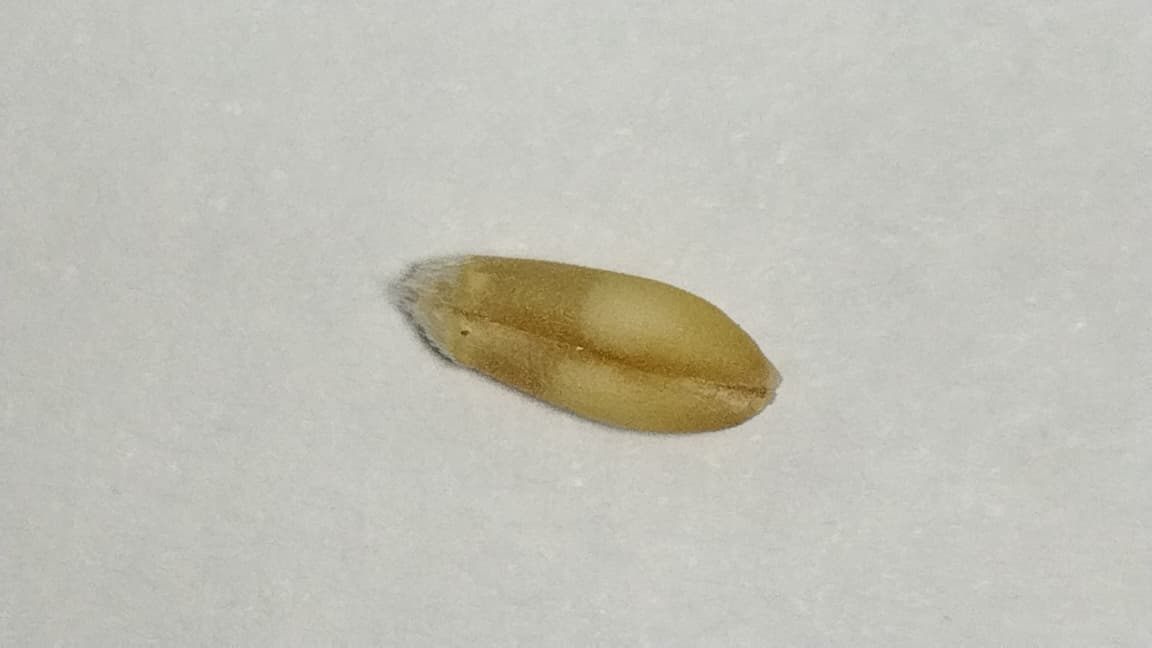healthy: (406, 256, 774, 432)
